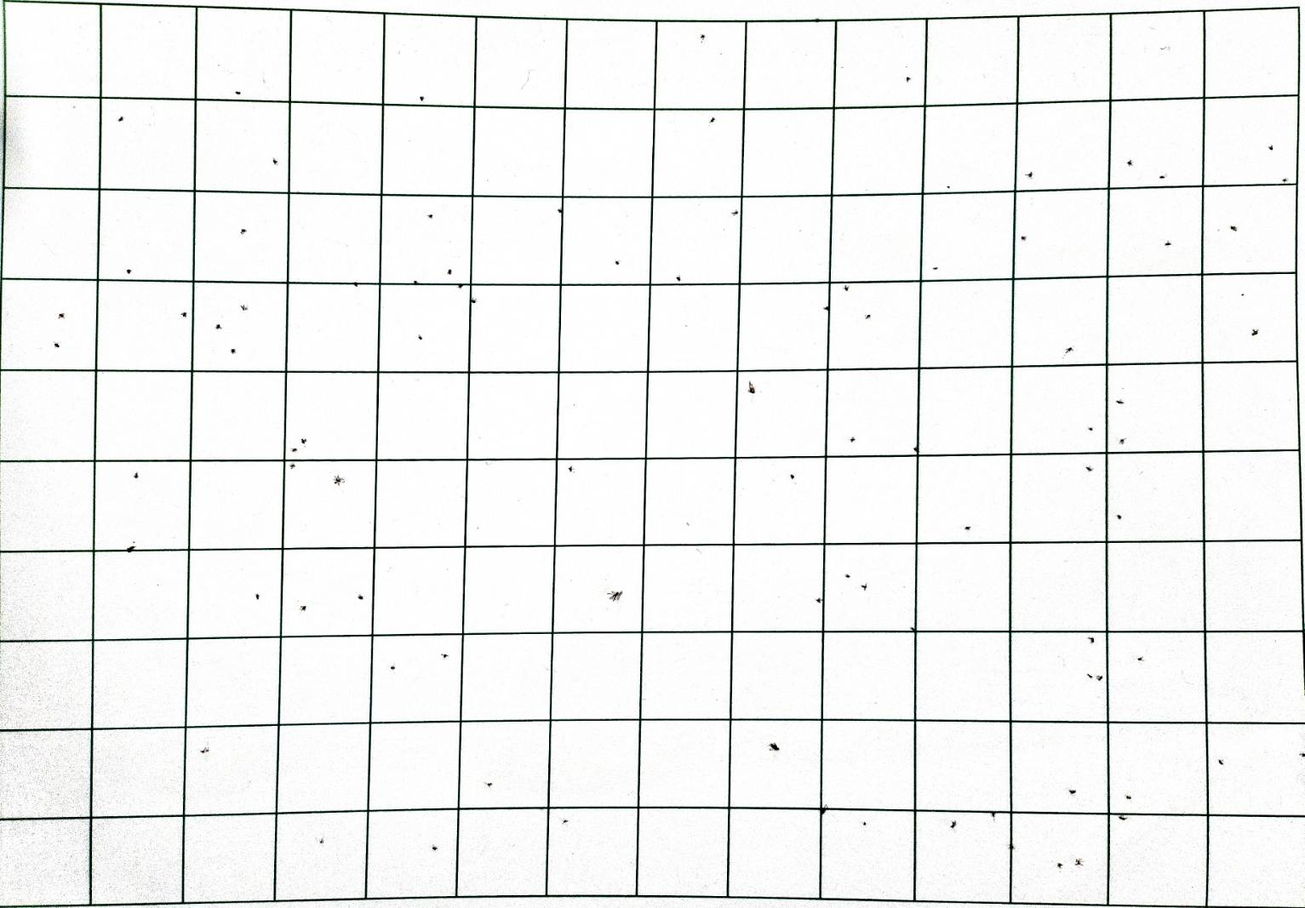test: (608, 590, 622, 601), (333, 474, 345, 485), (768, 741, 780, 751), (748, 381, 756, 393), (820, 804, 829, 813), (1064, 346, 1073, 354), (1074, 857, 1083, 865), (290, 445, 299, 453), (126, 545, 136, 552), (674, 274, 682, 282), (860, 582, 868, 590), (1087, 635, 1095, 643), (1252, 328, 1260, 336), (1067, 788, 1076, 795), (950, 819, 957, 828), (484, 780, 493, 787), (200, 746, 209, 753), (1118, 814, 1128, 820), (1118, 437, 1126, 444), (1026, 171, 1034, 178), (441, 652, 449, 659), (1096, 674, 1104, 681), (1230, 225, 1238, 232), (561, 817, 569, 824), (240, 304, 248, 311), (990, 810, 997, 818), (431, 843, 439, 850), (1007, 842, 1015, 849), (1115, 399, 1124, 405), (731, 209, 738, 216), (709, 116, 716, 123), (357, 593, 364, 600), (815, 596, 822, 603), (567, 465, 574, 472), (300, 604, 307, 611), (1218, 758, 1225, 765), (1126, 159, 1133, 166), (58, 312, 65, 319), (317, 836, 324, 843), (1056, 862, 1063, 869), (1136, 655, 1144, 661), (254, 592, 260, 600), (1085, 465, 1093, 471), (1164, 240, 1172, 246), (1282, 177, 1290, 183), (790, 473, 796, 480), (447, 268, 453, 275), (849, 436, 856, 442), (843, 285, 850, 291), (1020, 235, 1027, 241), (272, 158, 278, 165), (913, 445, 919, 452), (823, 304, 830, 310), (964, 525, 971, 531), (240, 228, 247, 234), (427, 213, 434, 219), (471, 297, 477, 304), (905, 76, 911, 83), (133, 471, 139, 478), (1159, 174, 1166, 180), (301, 437, 307, 444), (289, 462, 295, 469), (557, 207, 563, 214), (180, 311, 187, 317), (909, 624, 916, 630), (1125, 794, 1132, 800), (215, 323, 222, 329), (54, 341, 61, 347), (700, 34, 706, 41), (1086, 673, 1093, 679), (615, 259, 621, 265), (1116, 513, 1122, 519), (865, 313, 871, 319), (417, 334, 423, 340), (419, 95, 425, 101), (390, 664, 396, 670), (845, 572, 851, 578), (413, 279, 419, 285), (126, 268, 132, 274), (457, 283, 463, 289), (230, 348, 236, 354), (118, 116, 124, 122), (1270, 144, 1276, 150), (862, 819, 868, 825), (932, 265, 939, 270), (1087, 426, 1093, 431), (234, 91, 241, 95), (353, 282, 358, 287), (1301, 751, 1305, 757), (946, 185, 950, 189)
